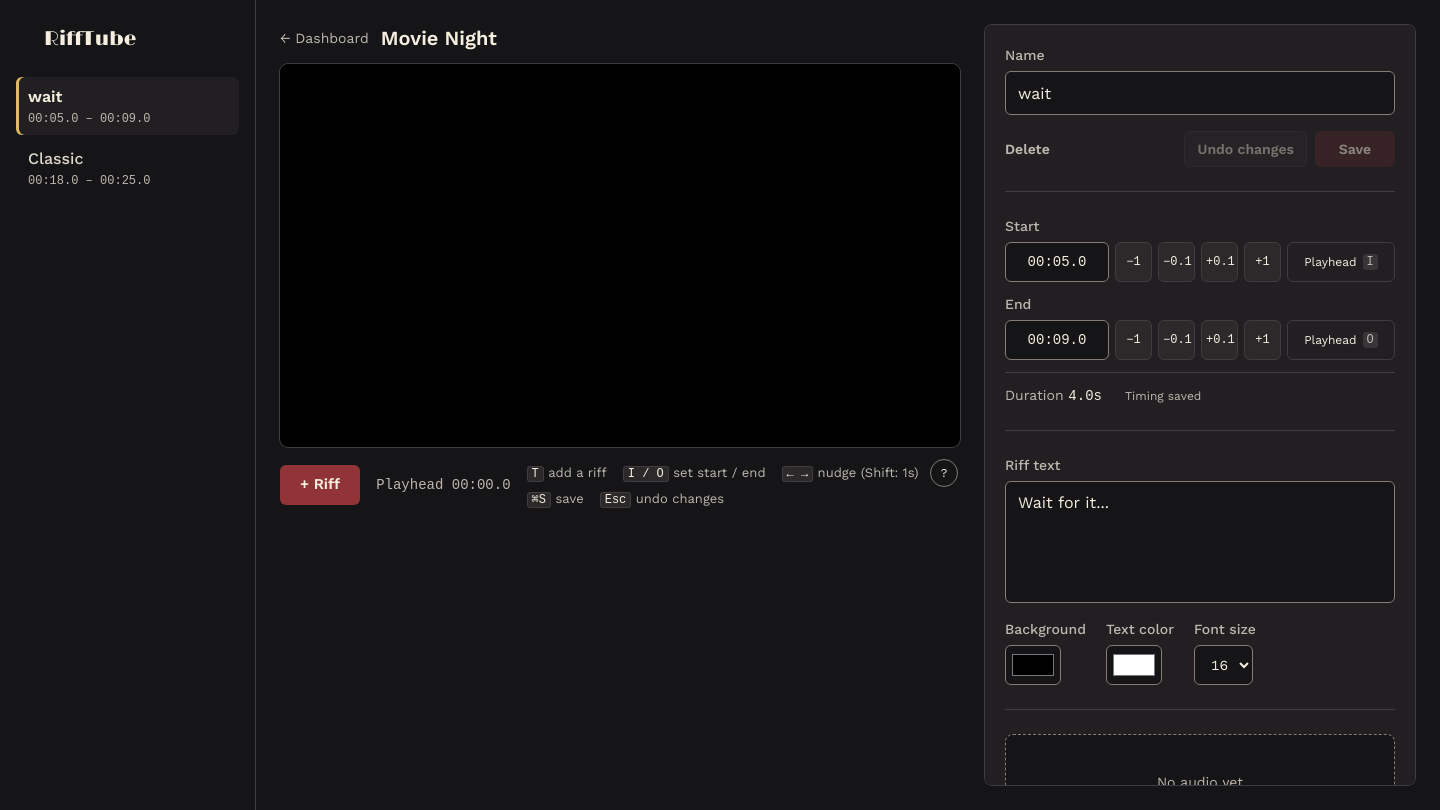
it: <EditorPage /> selecting › switches riffs and drops the changes once the user agrees
Expected: the heading "Movie Night" is shown, 381,24 -> 497,52
In the text box labelled "Riff text": (1200, 542) 1005,481 -> 1395,603, type " Unsaved"
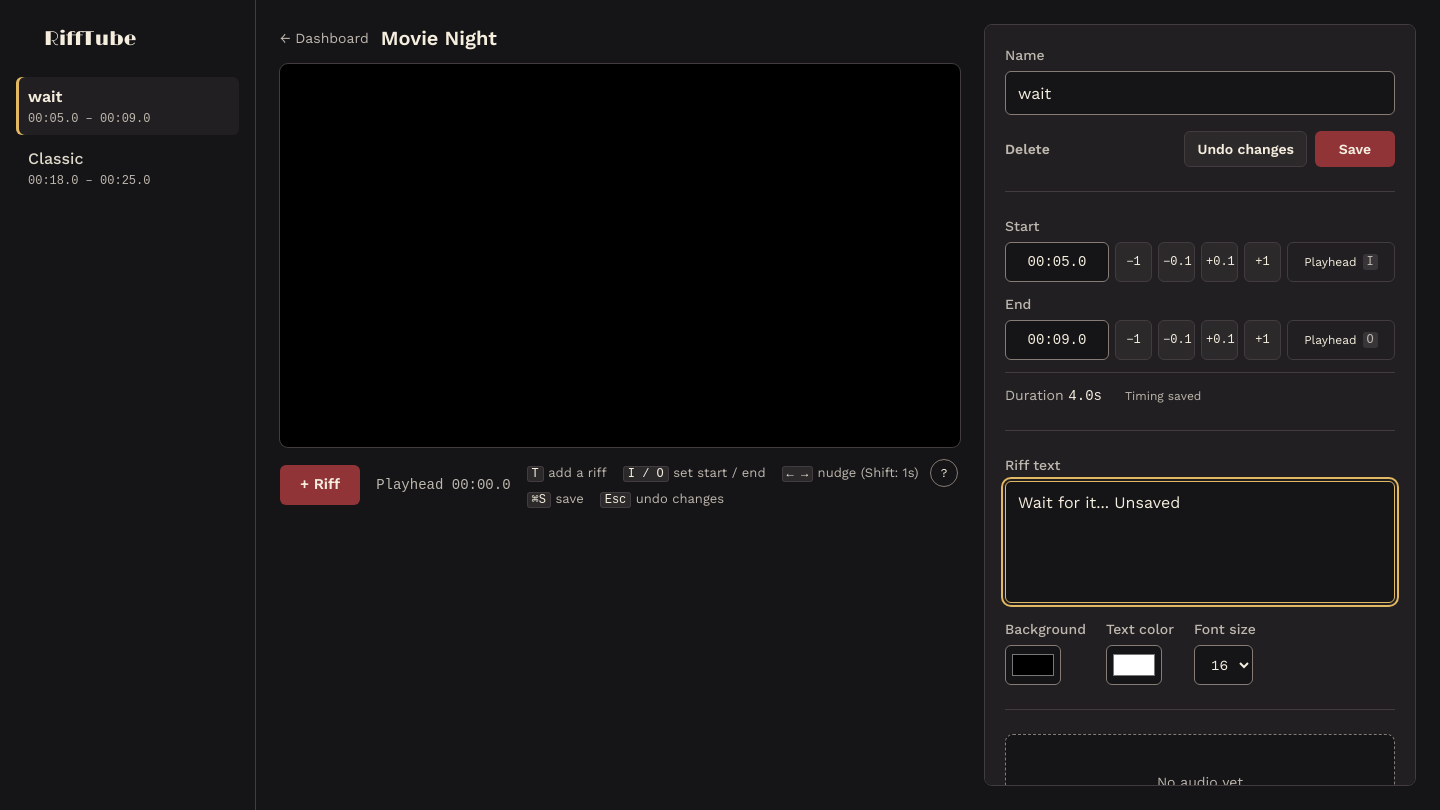
Click the button "Classic 00:18.0 – 00:25.0": (128, 168) 16,139 -> 239,197
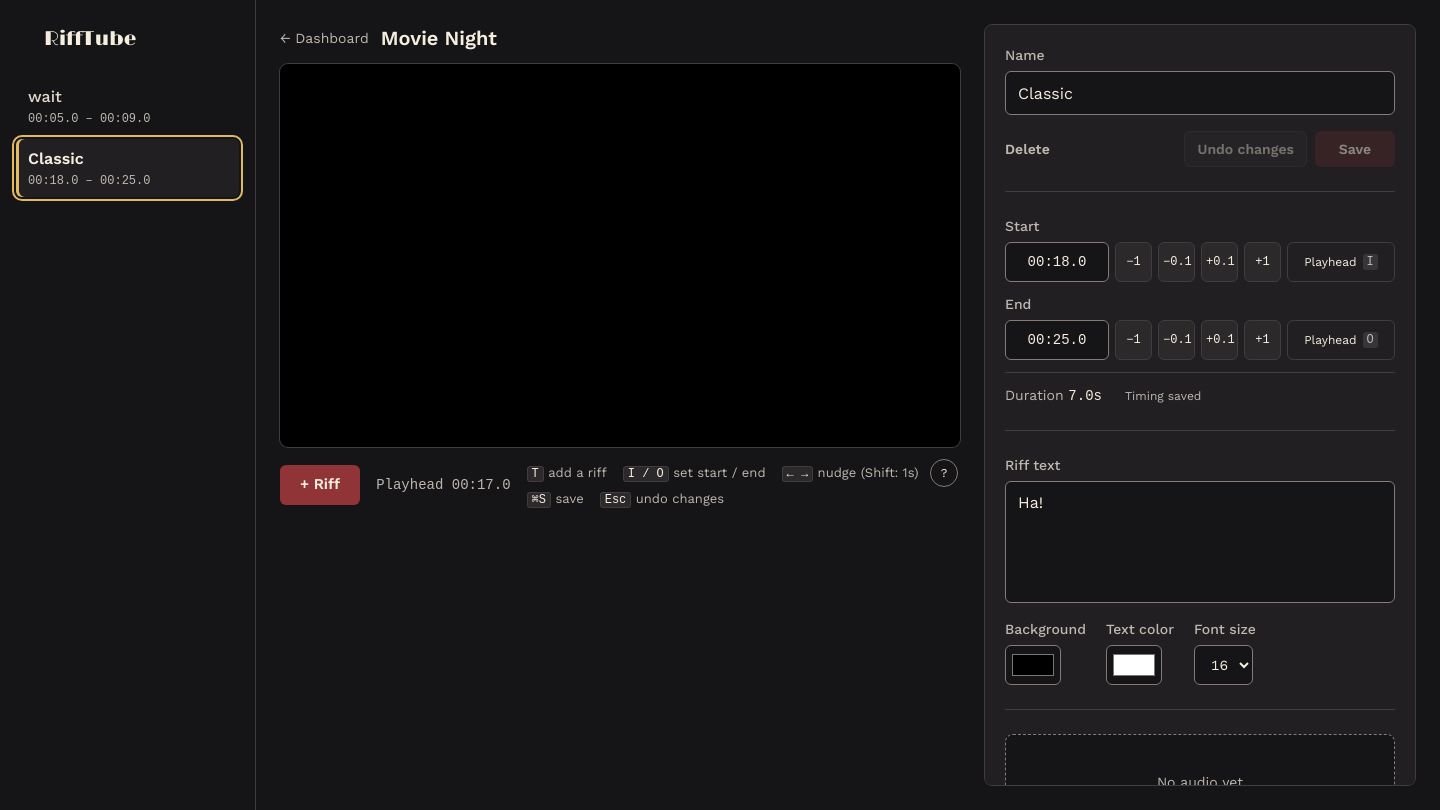
Expected: the field labelled "Name" holds "Classic", 1005,71 -> 1395,115
Click the button "wait 00:05.0 – 00:09.0": (128, 106) 16,77 -> 239,135
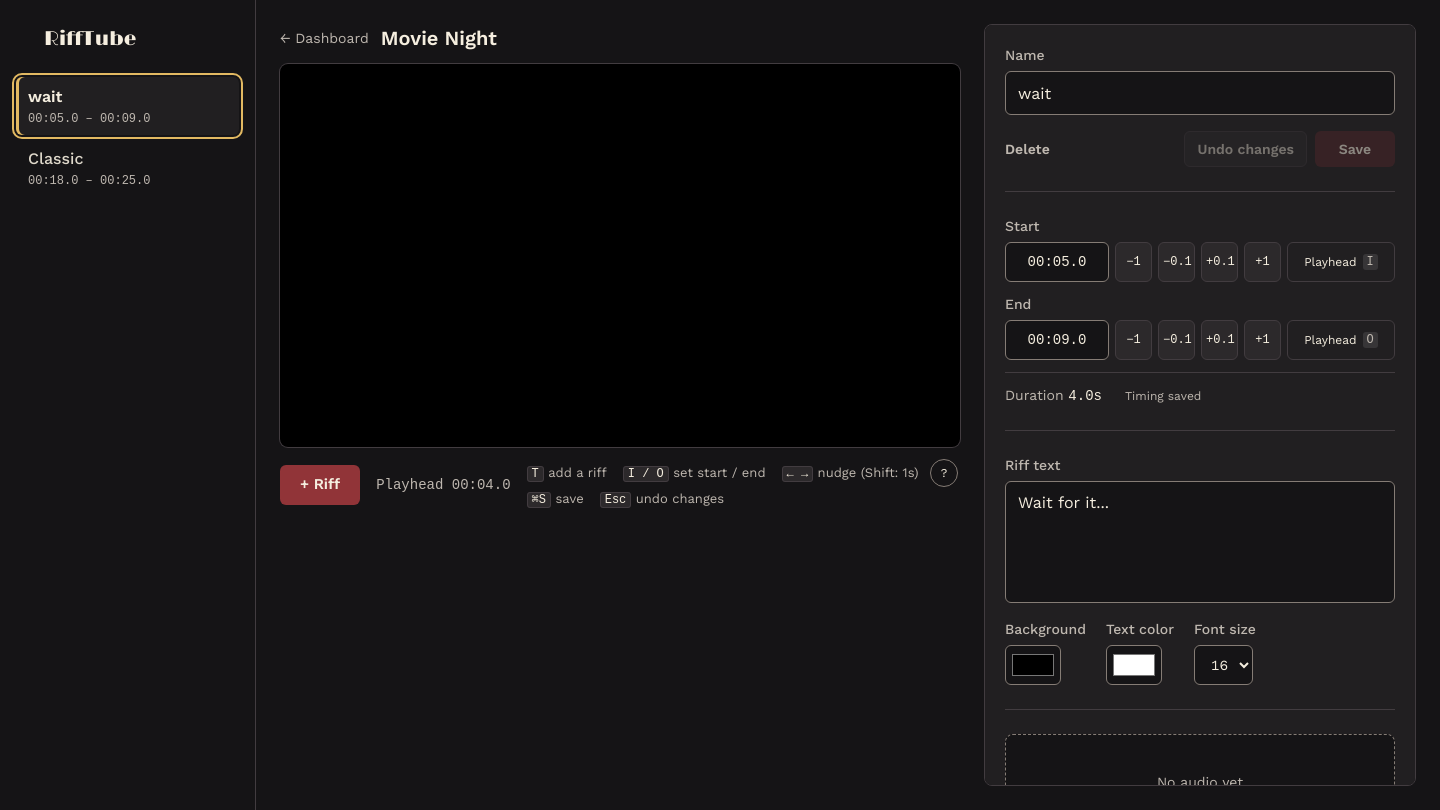
Expected: the text box labelled "Riff text" holds "Wait for it...", 1005,481 -> 1395,603
